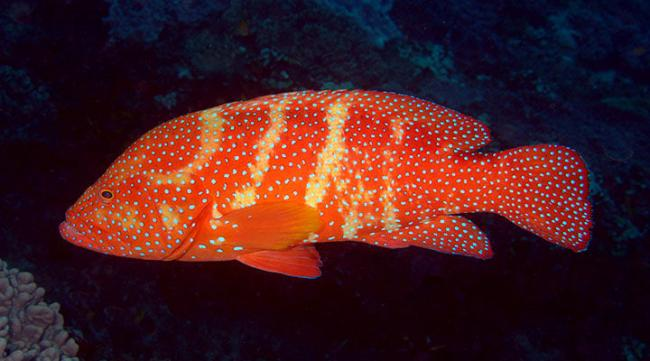fish: (60, 89, 594, 279)
